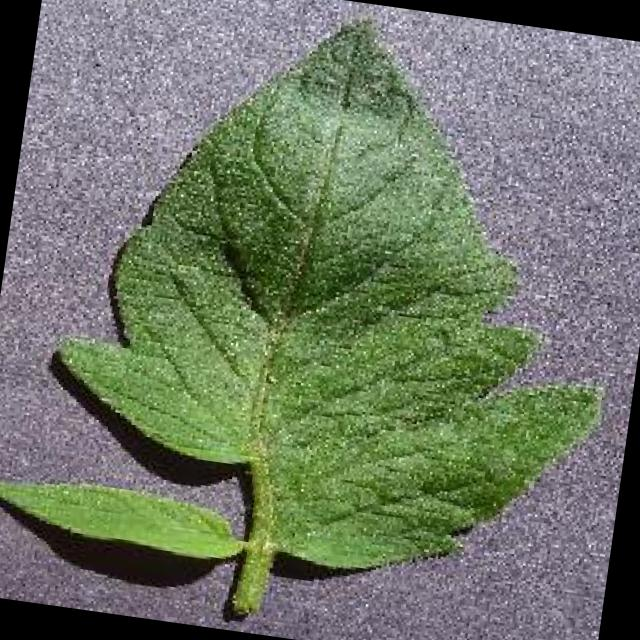Tomato_Healthy: (14, 0, 640, 616)
